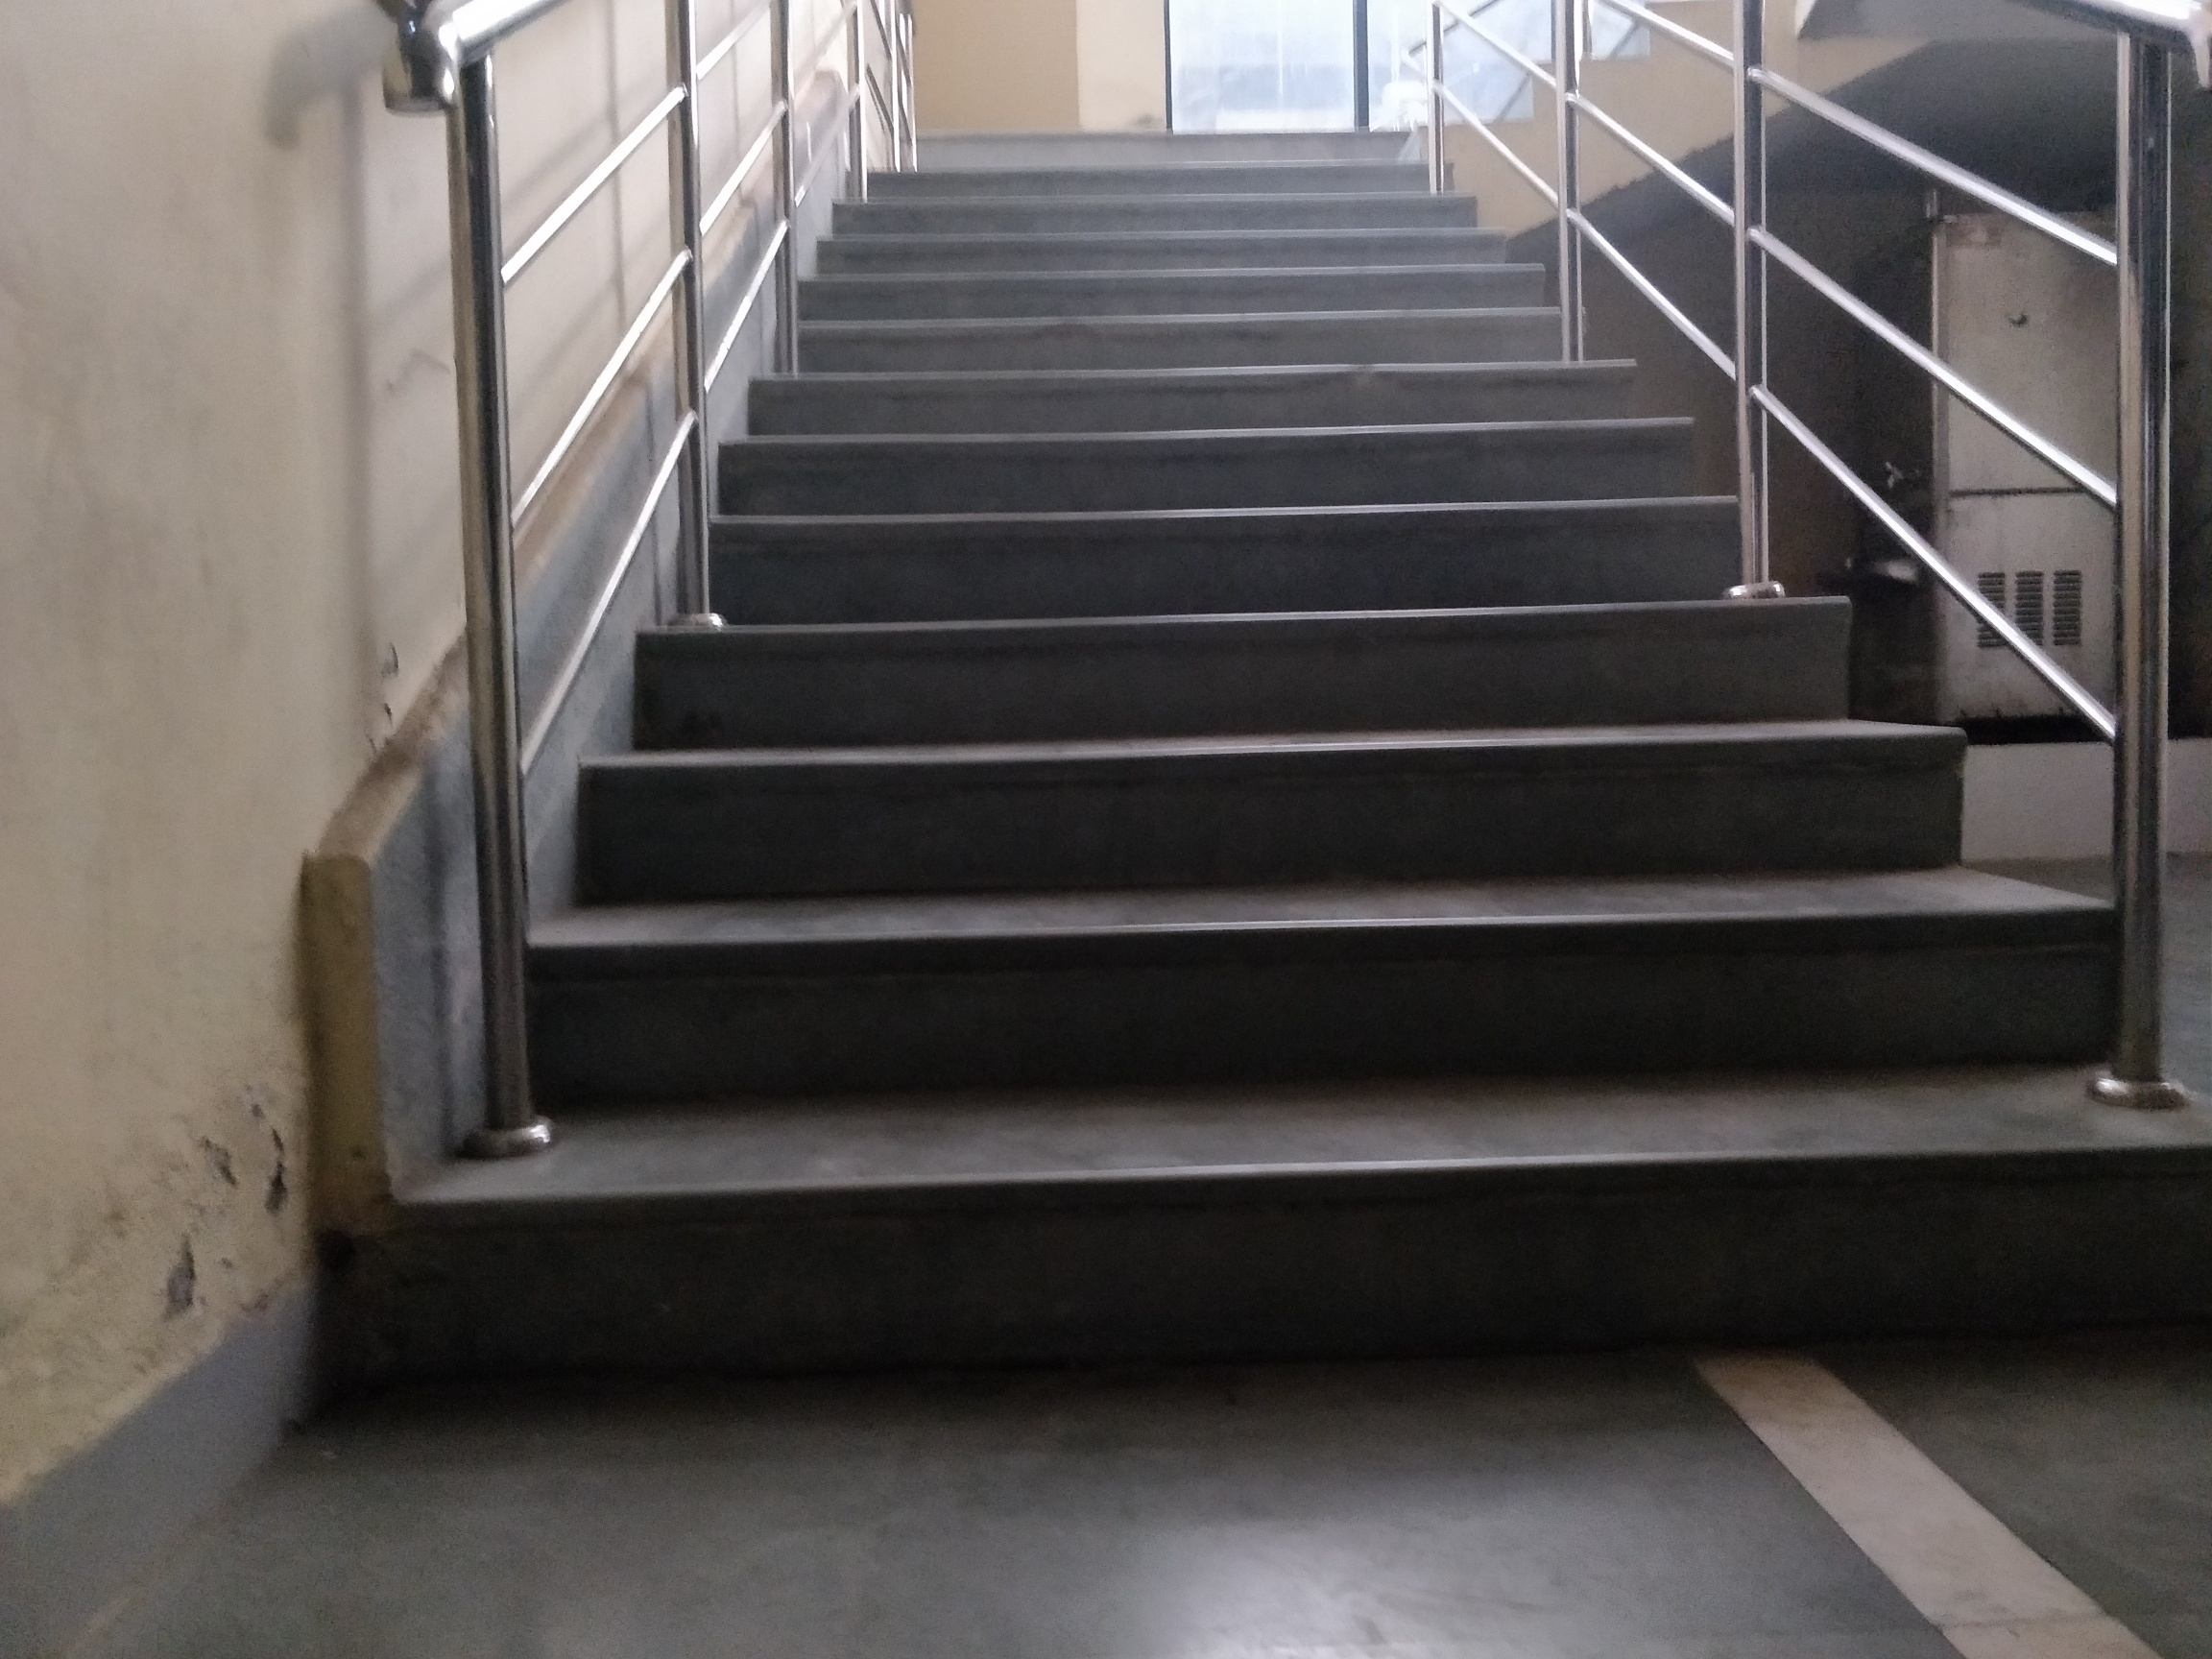stairs_up: (514, 167, 2205, 1398)
